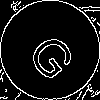G: (25, 25, 86, 85)
